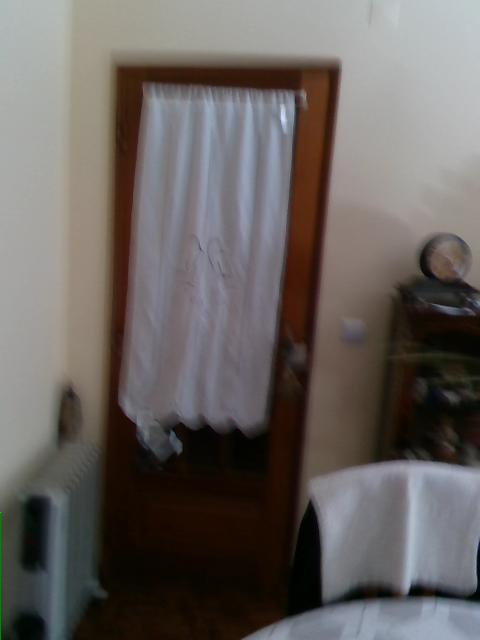closed_door: (94, 55, 343, 586)
